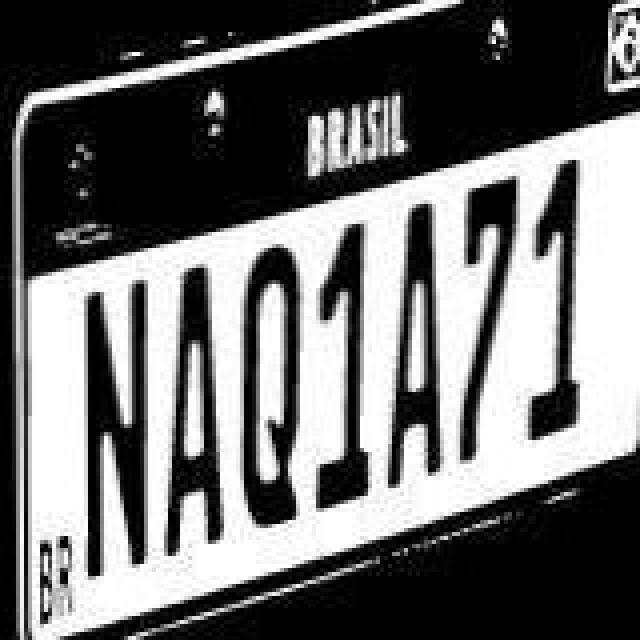1: (522, 162, 594, 446), (314, 212, 378, 508)
7: (454, 184, 526, 472)
A: (158, 254, 230, 554), (378, 198, 442, 482)
N: (78, 276, 150, 580)
Q: (236, 238, 304, 538)
